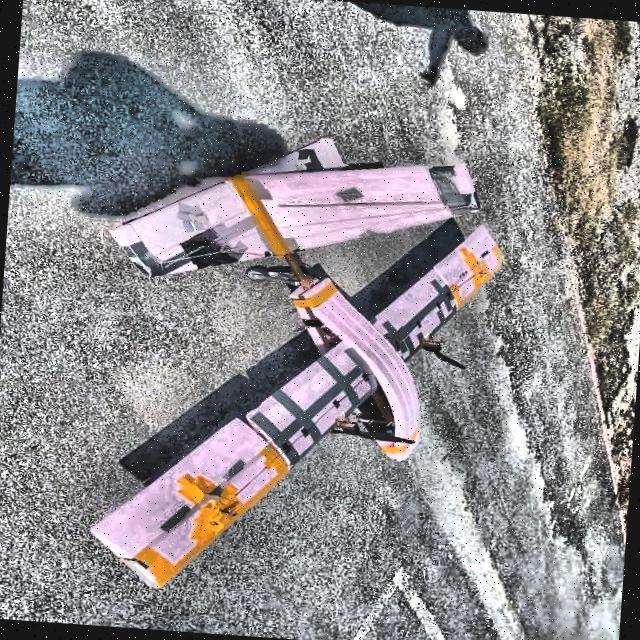iha: (79, 110, 515, 612)
